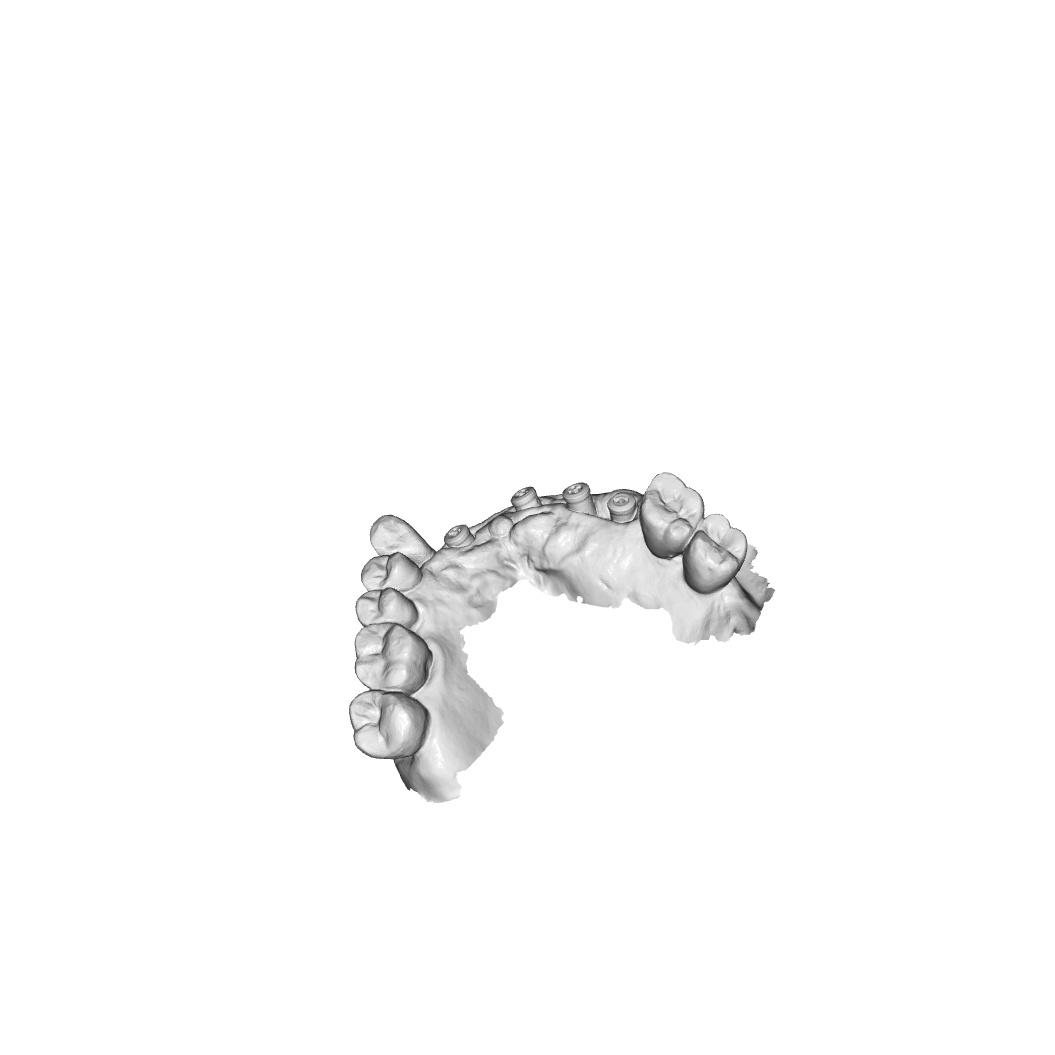canine: (367, 512, 436, 567)
implant: (509, 485, 545, 514), (443, 523, 477, 550)
implant_minus: (605, 491, 638, 524)
implant_plus: (560, 480, 599, 516)
molar: (638, 470, 706, 562), (352, 621, 434, 696), (348, 689, 430, 761), (681, 512, 748, 595)
premolar: (353, 587, 418, 630), (360, 551, 424, 593)
